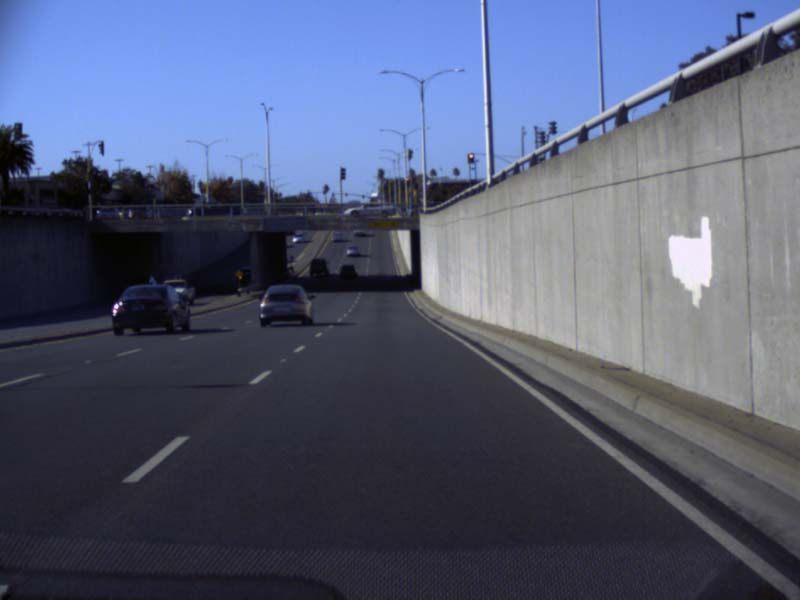Red: (468, 153, 474, 162)
